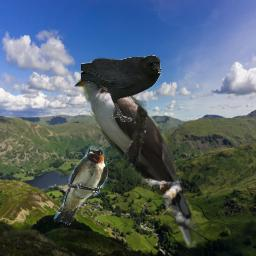Crow: (81, 55, 161, 122)
Cuckoo: (73, 70, 208, 248)
Swallow: (53, 146, 108, 225)
